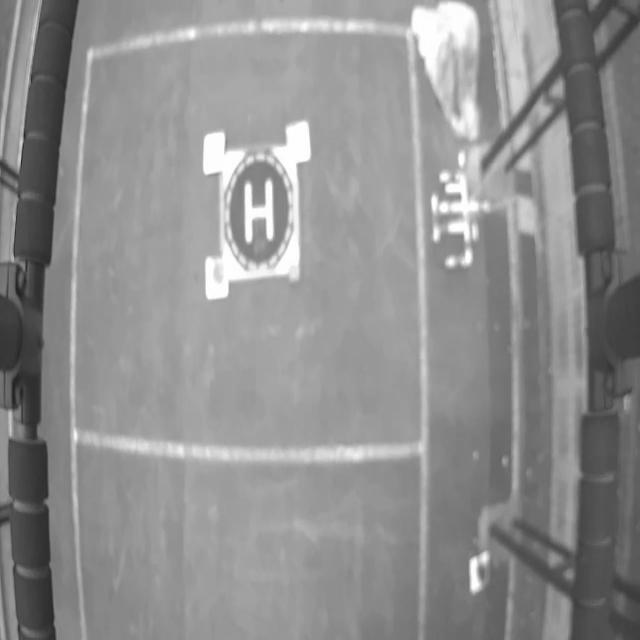Helipad: (245, 177, 274, 245)
